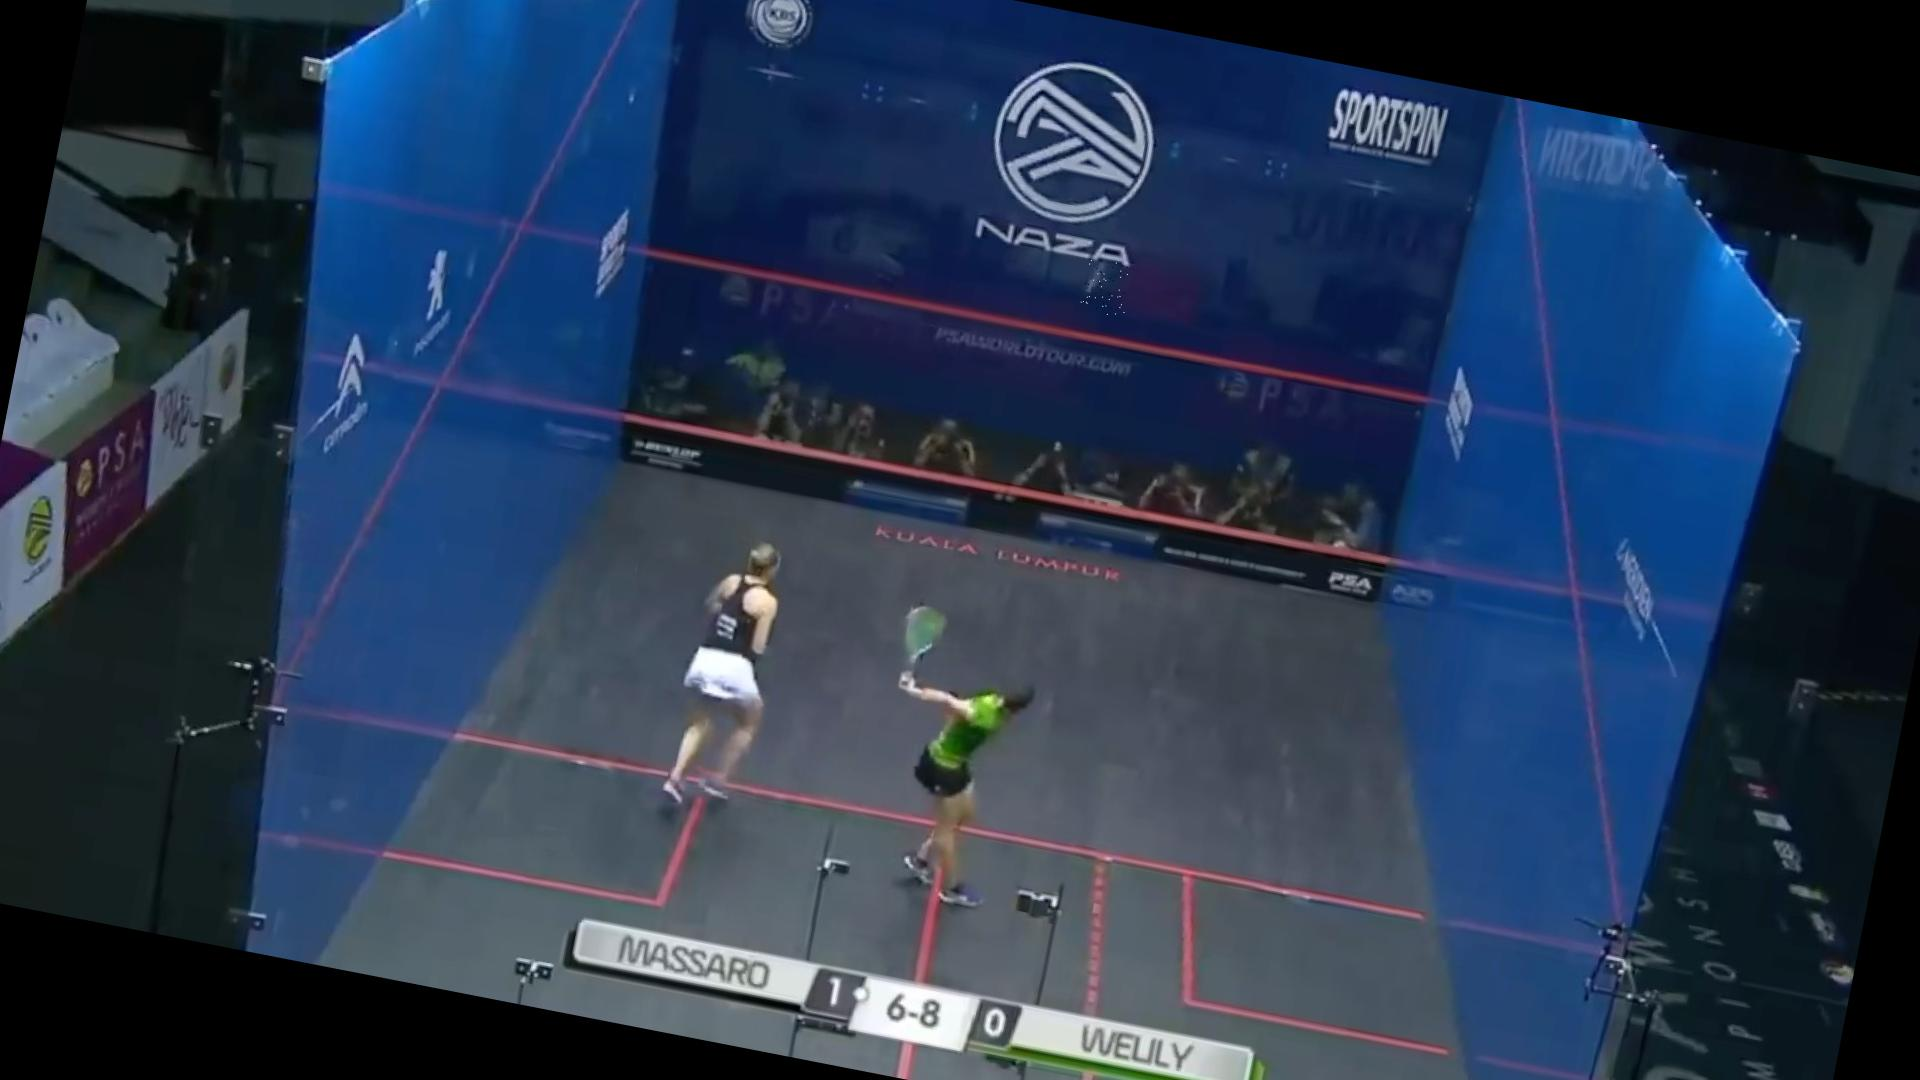Squash-Ball: (1079, 257, 1134, 319)
